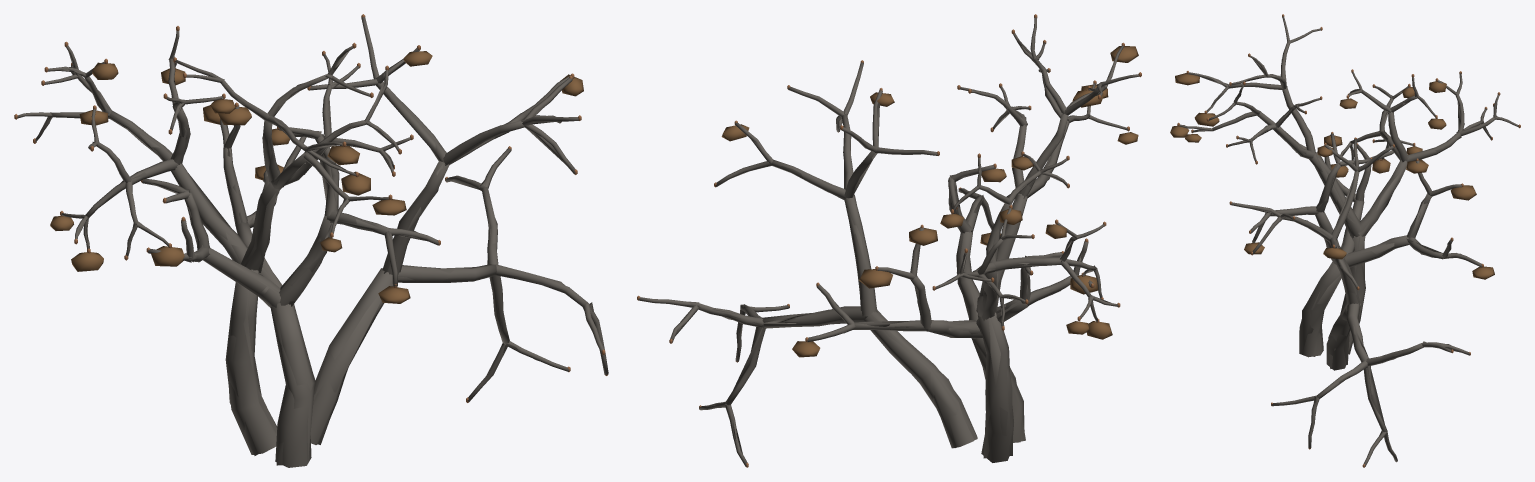
The model's file is scrub_oak_1.glb.
3 views of the same model, side by side, from view 1: azimuth 30°, elevation 25°; view 2: azimuth 150°, elevation 25°; view 3: azimuth 270°, elevation 25° (orthographic). The views are drawn at different scales.
Parts seen in each view (by area): view 1: ScrubOak_LimbWood_1, ScrubOak_Far_Bark, ScrubOak_LimbWood_0, ScrubOak_LimbWood_2; view 2: ScrubOak_LimbWood_1, ScrubOak_LimbWood_0, ScrubOak_Far_Bark, ScrubOak_LimbWood_2; view 3: ScrubOak_LimbWood_1, ScrubOak_Far_Bark, ScrubOak_LimbWood_0, ScrubOak_LimbWood_2.
Boxes of the visible parts, bbox=[...] form: ScrubOak_LimbWood_1: bbox=[17, 30, 410, 454]; ScrubOak_Far_Bark: bbox=[32, 18, 593, 465]; ScrubOak_LimbWood_0: bbox=[310, 17, 608, 444]; ScrubOak_LimbWood_2: bbox=[142, 105, 438, 467]; ScrubOak_LimbWood_1: bbox=[935, 17, 1139, 462]; ScrubOak_LimbWood_0: bbox=[638, 62, 977, 466]; ScrubOak_Far_Bark: bbox=[675, 35, 1118, 458]; ScrubOak_LimbWood_2: bbox=[807, 165, 1094, 442]; ScrubOak_LimbWood_1: bbox=[1179, 16, 1518, 350]; ScrubOak_Far_Bark: bbox=[1197, 37, 1512, 451]; ScrubOak_LimbWood_0: bbox=[1231, 139, 1469, 466]; ScrubOak_LimbWood_2: bbox=[1250, 133, 1481, 357].
Size of what is drawn, in the model's own units: 3.22 by 3.07 by 2.91.
